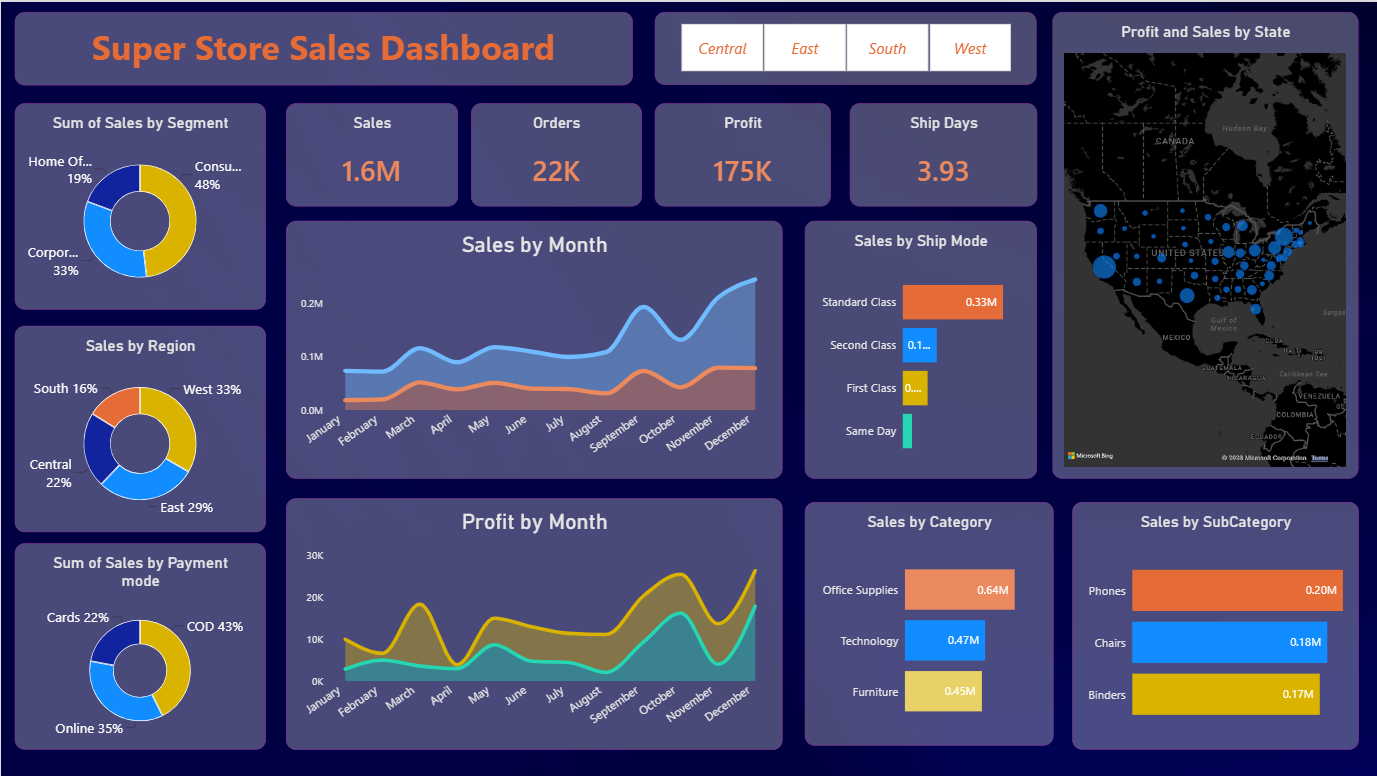

What the dashboard file says about the page in this screenshot:
{"tool":"powerbi","page":{"name":"Page 1","canvas":[1920,1080],"ordinal":0},"visuals":[{"type":"clusteredBarChart","title":"Sales by Category","fields":{"Y":["Sum(SuperStore_Sales_Dataset.Sales)"],"Category":["SuperStore_Sales_Dataset.Category"]},"box":[1121.8,698.2,347.3,340],"z":0},{"type":"clusteredBarChart","title":"Sales by SubCategory","fields":{"Y":["Sum(SuperStore_Sales_Dataset.Sales)"],"Category":["SuperStore_Sales_Dataset.Sub-Category"]},"box":[1494.5,698.2,400,345.5],"z":1000},{"type":"clusteredBarChart","title":"Sales by Ship Mode","fields":{"Y":["Sum(SuperStore_Sales_Dataset.Sales)"],"Category":["SuperStore_Sales_Dataset.Ship Mode"]},"box":[1121.8,305.5,323.6,360],"z":2000},{"type":"stackedAreaChart","title":"Sales by Month","fields":{"Y":["Sum(SuperStore_Sales_Dataset.Sales)"],"Series":["SuperStore_Sales_Dataset.Order Date.Variation.Date Hierarchy.Year"],"Category":["SuperStore_Sales_Dataset.Order Date.Variation.Date Hierarchy.Month","SuperStore_Sales_Dataset.Order Date.Variation.Date Hierarchy.Day"]},"box":[398.2,305.5,692.7,360],"z":3000},{"type":"stackedAreaChart","title":" Profit by Month","fields":{"Series":["SuperStore_Sales_Dataset.Order Date.Variation.Date Hierarchy.Year"],"Category":["SuperStore_Sales_Dataset.Order Date.Variation.Date Hierarchy.Month","SuperStore_Sales_Dataset.Order Date.Variation.Date Hierarchy.Day"],"Y":["Sum(SuperStore_Sales_Dataset.Profit)"]},"box":[398.2,692.7,692.7,350.9],"z":4000},{"type":"map","title":" Profit and Sales by State","fields":{"Category":["SuperStore_Sales_Dataset.State"],"Size":["Sum(SuperStore_Sales_Dataset.Sales)"]},"box":[1467.3,14.5,427.3,650.9],"z":5000},{"type":"donutChart","title":"Sum of Sales by  Segment","fields":{"Category":["SuperStore_Sales_Dataset.Segment"],"Series":["SuperStore_Sales_Dataset.Segment"],"Y":["Sum(SuperStore_Sales_Dataset.Sales)"]},"box":[20,142,350,288],"z":5001},{"type":"donutChart","title":"Sum of Sales by Payment mode","fields":{"Category":["SuperStore_Sales_Dataset.Payment Mode"],"Y":["Sum(SuperStore_Sales_Dataset.Sales)"]},"box":[20,756,350,288],"z":5002},{"type":"donutChart","title":"Sales by Region ","fields":{"Category":["SuperStore_Sales_Dataset.Region"],"Y":["Sum(SuperStore_Sales_Dataset.Sales)"]},"box":[20,452,350,288],"z":5003},{"type":"textbox","box":[20,14,862,102],"z":5005},{"type":"cardVisual","title":"Sales","fields":{"Data":["Sum(SuperStore_Sales_Dataset.Sales)"]},"box":[398.2,141.8,240,143.6],"z":5006},{"type":"cardVisual","title":"Orders","fields":{"Data":["Sum(SuperStore_Sales_Dataset.Quantity)"]},"box":[656.4,141.8,238.2,143.6],"z":5007},{"type":"cardVisual","title":"Profit","fields":{"Data":["Sum(SuperStore_Sales_Dataset.Profit)"]},"box":[912.7,141.8,245.5,143.6],"z":5008},{"type":"cardVisual","title":"Ship Days","fields":{"Data":["Avg(SuperStore_Sales_Dataset.AvgDelivery)"]},"box":[1183.6,141.8,261.8,143.6],"z":5009},{"type":"textbox","box":[100,100,300,300],"z":5010},{"type":"textbox","box":[100,100,300,300],"z":5011},{"type":"slicer","fields":{"Values":["SuperStore_Sales_Dataset.Region"]},"box":[912.7,14.5,532.7,101.8],"z":5012}]}

Visuals, with their boxes in screenshot pixels (x1, y1, x2, y2), scaled from the page's 1920x1080 canvas onto the 1377x776 screenshot:
"Sales by Category" clusteredBarChart: x1=805 y1=502 x2=1054 y2=746
"Sales by SubCategory" clusteredBarChart: x1=1072 y1=502 x2=1359 y2=750
"Sales by Ship Mode" clusteredBarChart: x1=805 y1=220 x2=1037 y2=478
"Sales by Month" stackedAreaChart: x1=286 y1=220 x2=782 y2=478
" Profit by Month" stackedAreaChart: x1=286 y1=498 x2=782 y2=750
" Profit and Sales by State" map: x1=1052 y1=10 x2=1359 y2=478
"Sum of Sales by  Segment" donutChart: x1=14 y1=102 x2=265 y2=309
"Sum of Sales by Payment mode" donutChart: x1=14 y1=543 x2=265 y2=750
"Sales by Region " donutChart: x1=14 y1=325 x2=265 y2=532
textbox: x1=14 y1=10 x2=633 y2=83
"Sales" cardVisual: x1=286 y1=102 x2=458 y2=205
"Orders" cardVisual: x1=471 y1=102 x2=642 y2=205
"Profit" cardVisual: x1=655 y1=102 x2=831 y2=205
"Ship Days" cardVisual: x1=849 y1=102 x2=1037 y2=205
textbox: x1=72 y1=72 x2=287 y2=287
textbox: x1=72 y1=72 x2=287 y2=287
slicer - SuperStore_Sales_Dataset.Region: x1=655 y1=10 x2=1037 y2=84
